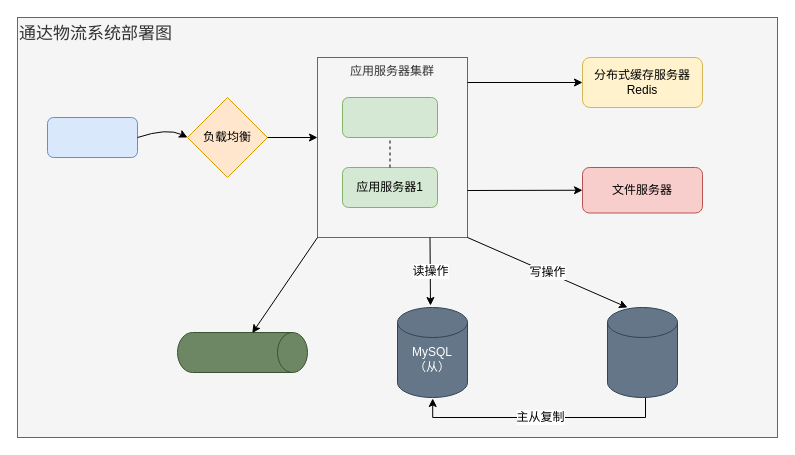
Image size: 795x455. Some labels were removed from this diagram. The shapes that lost their labels are listed below. From the top down, each one's centre as x and y in pixels, then its label:
At (x=92, y=137): "移动App".
At (x=390, y=117): "应用服务器n".
At (x=242, y=352): "消息队列".
At (x=642, y=352): "MySQL （主）".
